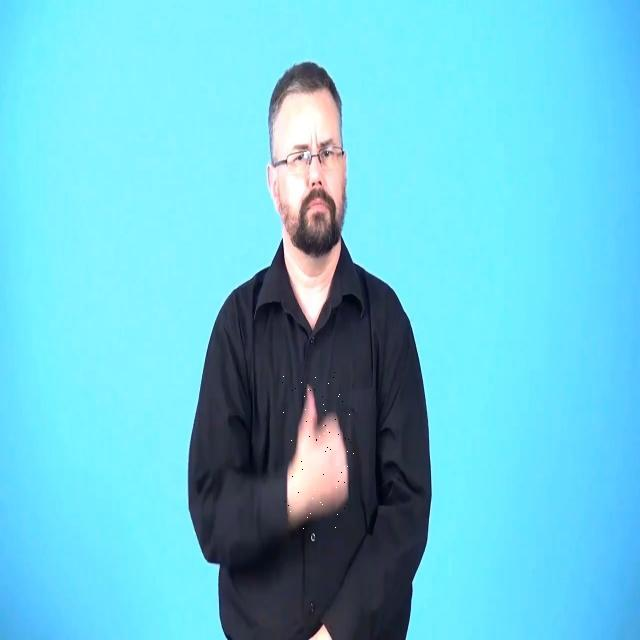repeat: (282, 371, 354, 534)
